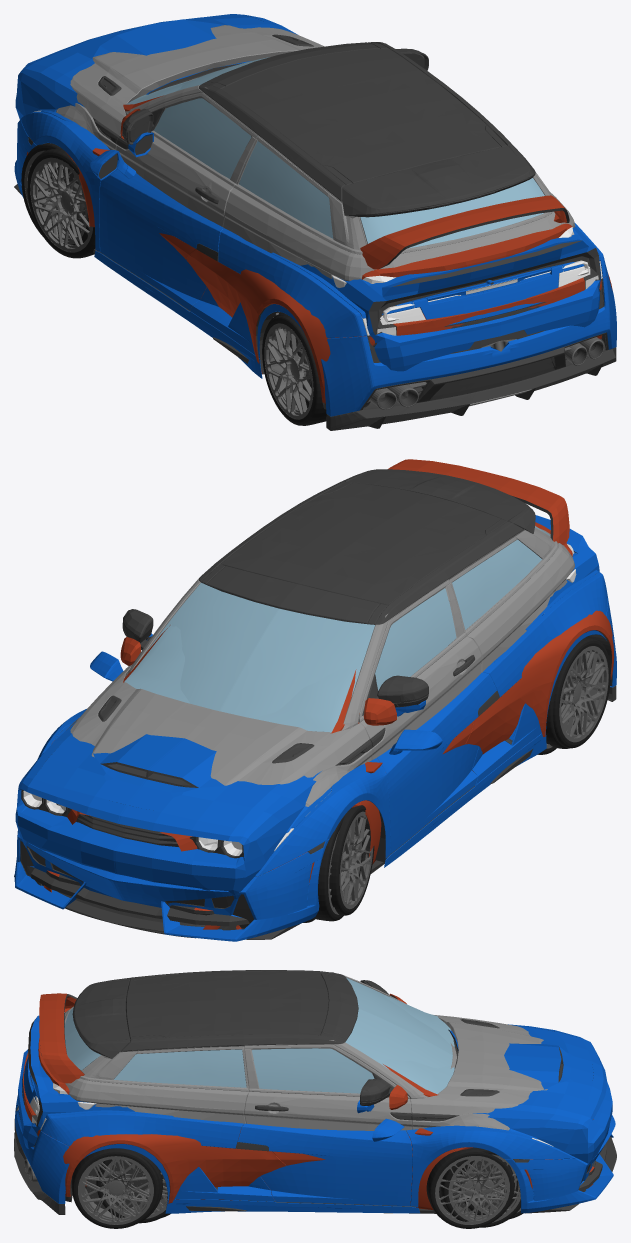
Rendered from Selection.fbx.
3 renders of one model, top to bottom at view 1: azimuth 30°, elevation 25°; view 2: azimuth 150°, elevation 25°; view 3: azimuth 270°, elevation 25°, orthographic. The views are drawn at different scales.
Visible parts, largest first — view 1: Car-03, Car-05, Car-01, Tire-05, Car-04, Car-02, Tire-04; view 2: Car-03, Car-05, Car-01, Car-02, Car-04, Tire-05, Tire-04; view 3: Car-03, Car-05, Car-01, Tire-05, Car-04, Car-02, Tire-04, Tire-03, Tire-01.
Boxes of the visible parts, x1,y1,x2,y2 form: Car-03: (56, 25, 574, 287); Car-05: (14, 110, 616, 430); Car-01: (15, 14, 601, 397); Tire-05: (27, 148, 326, 425); Car-04: (14, 148, 612, 412); Car-02: (120, 80, 574, 283); Tire-04: (21, 143, 311, 412); Car-03: (66, 469, 576, 816); Car-05: (14, 570, 616, 941); Car-01: (15, 515, 599, 926); Car-02: (46, 459, 574, 915); Car-04: (14, 610, 614, 939); Tire-05: (329, 636, 610, 915); Tire-04: (313, 651, 603, 921); Car-03: (64, 970, 547, 1132); Car-05: (14, 1056, 616, 1214); Car-01: (17, 1015, 612, 1190); Tire-05: (71, 1147, 514, 1228); Car-04: (23, 1052, 593, 1213); Car-02: (38, 993, 595, 1188); Tire-04: (82, 1148, 520, 1227); Tire-03: (96, 1159, 518, 1223); Tire-01: (125, 1159, 523, 1219).
Size of the model in its own units: 3.46 by 2.19 by 6.79.
